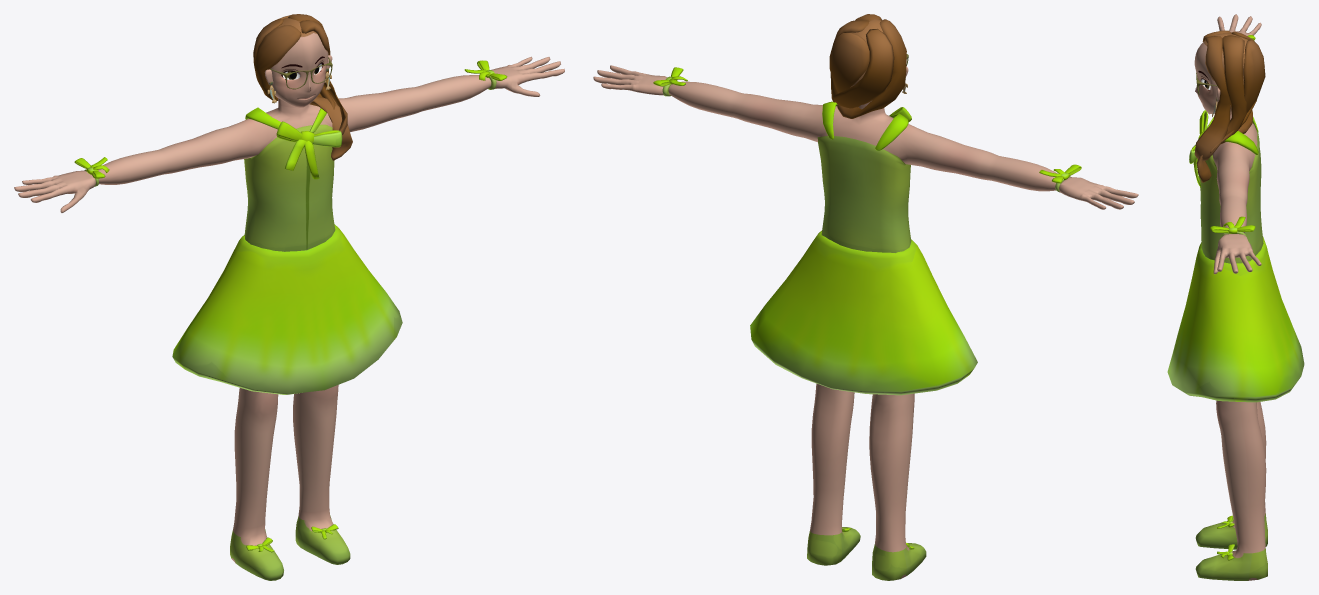
Rendered from rhonja.fbx.
3 renders of one model, left to right at view 1: azimuth 30°, elevation 25°; view 2: azimuth 150°, elevation 25°; view 3: azimuth 270°, elevation 25°, orthographic. The views are drawn at different scales.
Visible parts, largest first — view 1: Cube.001; view 2: Cube.001; view 3: Cube.001.
Part boxes in pixels (x1,y1,x2,y2): Cube.001: [14, 14, 564, 580]; Cube.001: [593, 14, 1138, 580]; Cube.001: [1167, 14, 1304, 580].
Bounding box in the file's own units: 2.71 × 2.6 × 0.6119.
